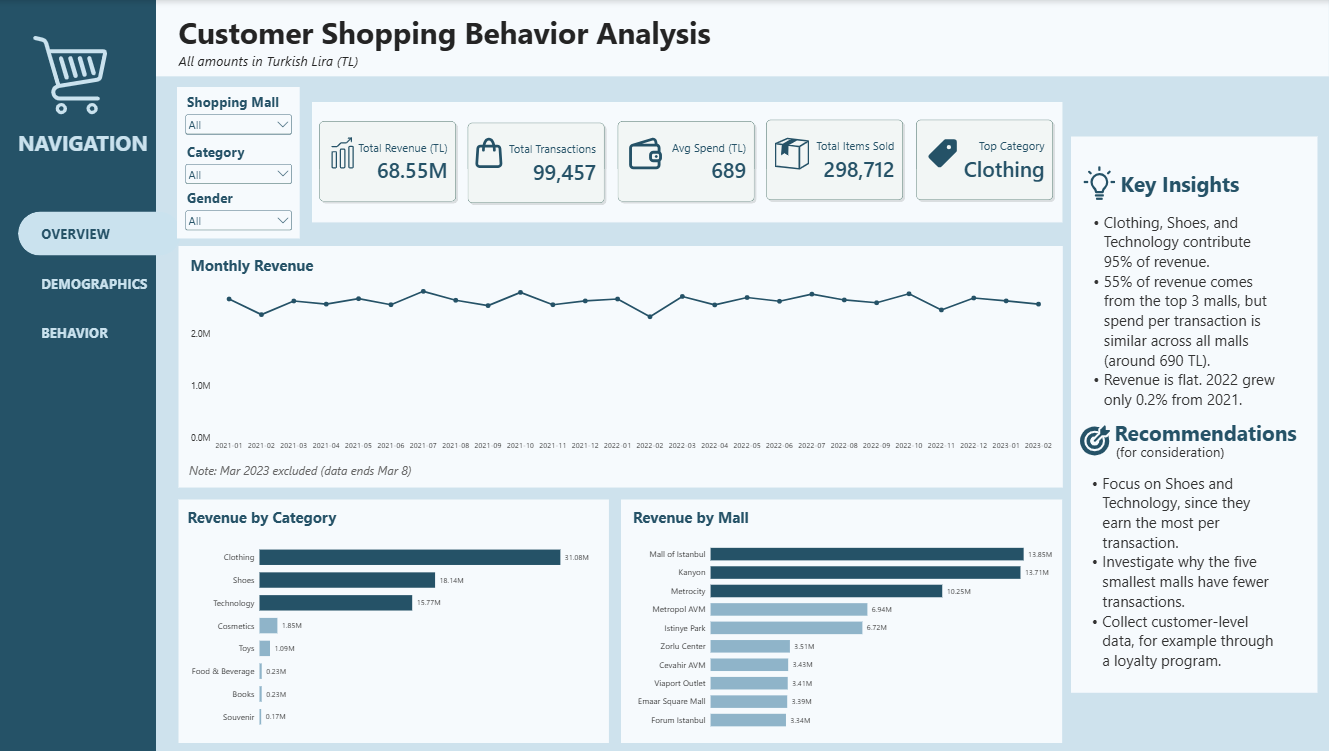

What the dashboard file says about the page in this screenshot:
{"tool":"powerbi","page":{"name":"OVERVIEW","canvas":[2380,1350],"ordinal":0},"visuals":[{"type":"shape","box":[0,0,279.3,1350.9],"z":0,"group":"g2"},{"type":"shape","box":[1917.7,244.6,441.4,996.1],"z":0},{"type":"textbox","box":[2006.3,303.6,223.7,65.6],"z":0,"group":"g1"},{"type":"image","box":[1935.2,265.1,64.2,123.8],"z":1000,"group":"g1"},{"type":"textbox","box":[1996.8,750.5,332.5,59.7],"z":1000},{"type":"shape","box":[557.4,182.1,1343.6,215.4],"z":2000},{"type":"shape","box":[279.3,0,2100.2,137],"z":3000},{"type":"image","box":[38.8,65.6,176,140.2],"z":3000,"group":"g2"},{"type":"image","box":[1932.6,757.5,53.7,62.6],"z":4000},{"type":"shape","box":[317.5,154.7,219.7,271.2],"z":4500,"group":"g3"},{"type":"slicer","fields":{"Values":["customer_shopping_clean.shopping_mall"]},"box":[317.3,154.7,220,85],"z":5000,"group":"g3"},{"type":"cardVisual","fields":{"Data":["customer_shopping_clean.Avg Spend"]},"box":[1091.4,201.1,266.5,175.7],"z":5000},{"type":"cardVisual","fields":{"Data":["customer_shopping_clean.Total Transaksi"]},"box":[822.9,203.5,266.5,175.7],"z":6000},{"type":"slicer","fields":{"Values":["customer_shopping_clean.category"]},"box":[317.7,243.2,220.5,84.6],"z":6000,"group":"g3"},{"type":"cardVisual","fields":{"Data":["customer_shopping_clean.Total Revenue"]},"box":[556.4,201.1,266.5,175.7],"z":7000},{"type":"slicer","fields":{"Values":["customer_shopping_clean.gender"]},"box":[317.7,327.8,220.5,84.6],"z":7000,"group":"g3"},{"type":"textbox","box":[318.8,21.9,1052.5,85],"z":8000},{"type":"shape","box":[319.1,441.4,1583.7,432.4],"z":9000},{"type":"cardVisual","fields":{"Data":["customer_shopping_clean.Total Item Terjual"]},"box":[1356.3,199.3,266.5,175.7],"z":10000},{"type":"image","box":[1112.7,243.7,85.1,61.7],"z":11000},{"type":"lineChart","title":"Monthly Revenue","fields":{"Category":["customer_shopping_clean.Month"],"Y":["customer_shopping_clean.Total Revenue"]},"box":[325.1,444.4,1577.7,384.7],"z":12000},{"type":"cardVisual","fields":{"Data":["customer_shopping_clean.Kategori Teratas"]},"box":[1625.3,199.3,266.5,175.7],"z":13000},{"type":"textbox","box":[32.8,229.6,235.6,56.7],"z":13000,"group":"g2"},{"type":"shape","box":[319.1,894.1,770.9,436],"z":14000},{"type":"image","box":[845.5,240.7,58.7,64.6],"z":15000},{"type":"clusteredBarChart","title":"Revenue by Category","fields":{"Category":["customer_shopping_clean.category"],"Y":["customer_shopping_clean.Total Revenue"]},"box":[319.1,894.1,767.8,436],"z":16000},{"type":"image","box":[1647,243.7,82.2,61.7],"z":17000},{"type":"shape","box":[1112.2,894.1,789.9,436],"z":18000},{"type":"image","box":[1385.7,243.7,64.6,61.7],"z":19000},{"type":"image","box":[584.2,240.7,55.8,64.6],"z":20000},{"type":"textbox","box":[1937,380,357,393],"z":21000},{"type":"clusteredBarChart","title":"Revenue by Mall","fields":{"Category":["customer_shopping_clean.shopping_mall"],"Y":["customer_shopping_clean.Total Revenue"]},"box":[1118.5,894.1,783.6,436],"z":22000},{"type":"group","id":"g1","title":"Group 1","box":[1935.2,265.1,294.8,123.8],"z":23000},{"type":"textbox","box":[318.8,90.6,368.8,43.8],"z":24000},{"type":"textbox","box":[1933.5,845.3,357.9,369.8],"z":25000},{"type":"textbox","box":[337.9,827.7,411.1,36.6],"z":26000},{"type":"textbox","box":[1998.2,793.3,232.6,35.8],"z":27000},{"type":"group","id":"g2","title":"Group 10","box":[0,0,279.3,1350.9],"z":28000},{"type":"pageNavigator","box":[33.3,379.4,292.1,258.7],"z":29000},{"type":"group","id":"g3","title":"Group 8","box":[317.3,154.7,220.9,271.2],"z":30000}]}

Visuals, with their boxes in screenshot pixels (x1, y1, x2, y2), scaled from the page's 2380x1350 canvas onto the 1329x751 screenshot:
shape: rect(0, 0, 156, 750)
shape: rect(1071, 136, 1317, 690)
textbox: rect(1120, 169, 1245, 205)
image: rect(1081, 147, 1116, 216)
textbox: rect(1115, 418, 1301, 451)
shape: rect(311, 101, 1062, 221)
shape: rect(156, 0, 1328, 76)
image: rect(22, 36, 120, 114)
image: rect(1079, 421, 1109, 456)
shape: rect(177, 86, 300, 237)
slicer - customer_shopping_clean.shopping_mall: rect(177, 86, 300, 133)
cardVisual - customer_shopping_clean.Avg Spend: rect(609, 112, 758, 210)
cardVisual - customer_shopping_clean.Total Transaksi: rect(460, 113, 608, 211)
slicer - customer_shopping_clean.category: rect(177, 135, 301, 182)
cardVisual - customer_shopping_clean.Total Revenue: rect(311, 112, 460, 210)
slicer - customer_shopping_clean.gender: rect(177, 182, 301, 229)
textbox: rect(178, 12, 766, 59)
shape: rect(178, 246, 1063, 486)
cardVisual - customer_shopping_clean.Total Item Terjual: rect(757, 111, 906, 209)
image: rect(621, 136, 669, 170)
"Monthly Revenue" lineChart: rect(182, 247, 1063, 461)
cardVisual - customer_shopping_clean.Kategori Teratas: rect(908, 111, 1056, 209)
textbox: rect(18, 128, 150, 159)
shape: rect(178, 497, 609, 740)
image: rect(472, 134, 505, 170)
"Revenue by Category" clusteredBarChart: rect(178, 497, 607, 740)
image: rect(920, 136, 966, 170)
shape: rect(621, 497, 1062, 740)
image: rect(774, 136, 810, 170)
image: rect(326, 134, 357, 170)
textbox: rect(1082, 211, 1281, 430)
"Revenue by Mall" clusteredBarChart: rect(625, 497, 1062, 740)
"Group 1" group: rect(1081, 147, 1245, 216)
textbox: rect(178, 50, 384, 75)
textbox: rect(1080, 470, 1280, 676)
textbox: rect(189, 460, 418, 481)
textbox: rect(1116, 441, 1246, 461)
"Group 10" group: rect(0, 0, 156, 750)
pageNavigator: rect(19, 211, 182, 355)
"Group 8" group: rect(177, 86, 301, 237)
